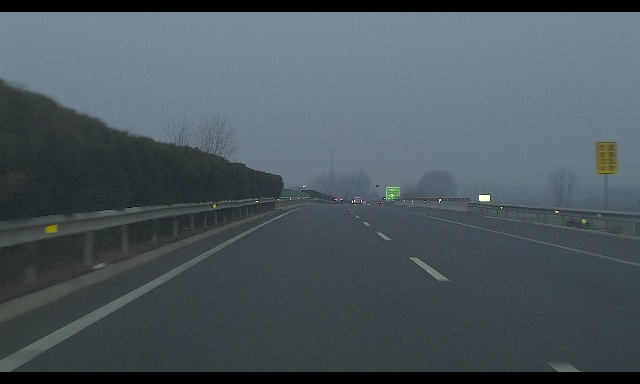car: (334, 196, 344, 204), (353, 197, 363, 204)
